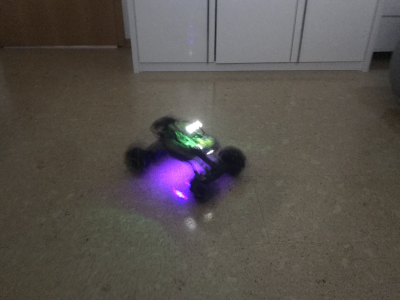remote control car: (120, 111, 248, 204)
